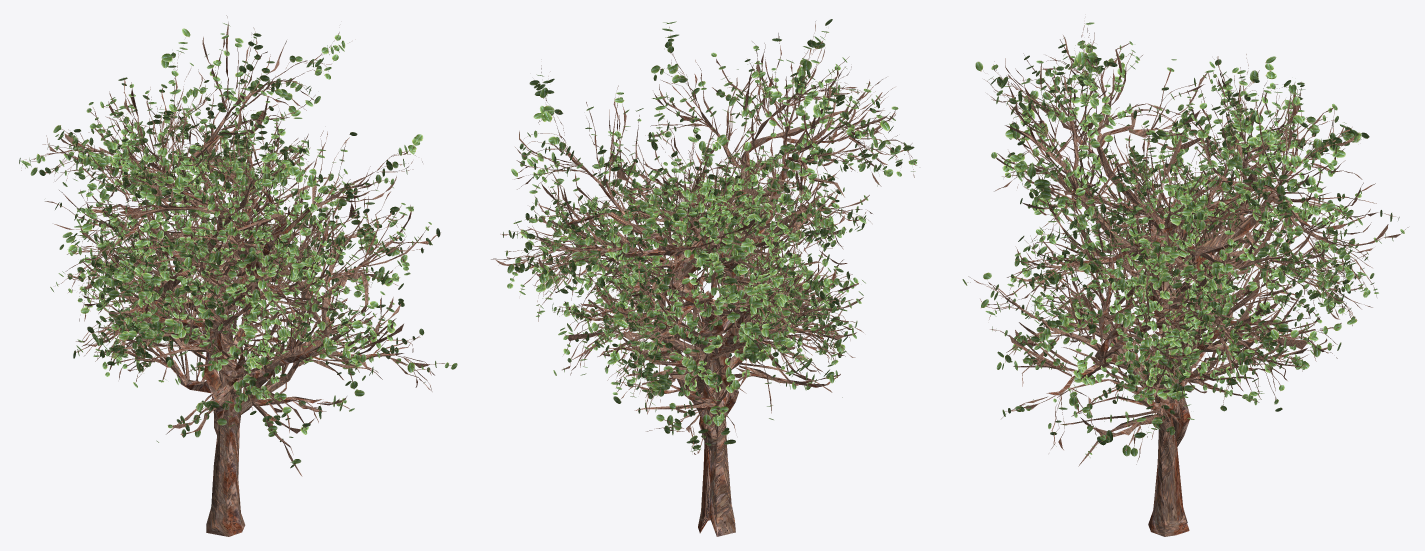
Rendered from arrayan.glb.
3 views of the same model, side by side, from view 1: azimuth 30°, elevation 25°; view 2: azimuth 150°, elevation 25°; view 3: azimuth 270°, elevation 25° (orthographic). The views are drawn at different scales.
Visible parts, largest first — view 1: arrayan; view 2: arrayan; view 3: arrayan.
Boxes of the visible parts, box(x1,y1,x2,y2) form: arrayan: box(19, 15, 457, 536); arrayan: box(491, 19, 917, 536); arrayan: box(962, 22, 1408, 536).
Size of the model in its own units: 3.94 by 4.91 by 4.2.
9 materials, 9 textured.
